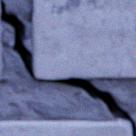brick: (32, 0, 135, 77), (0, 120, 130, 135), (0, 25, 1, 78)
crack: (0, 0, 135, 135)
